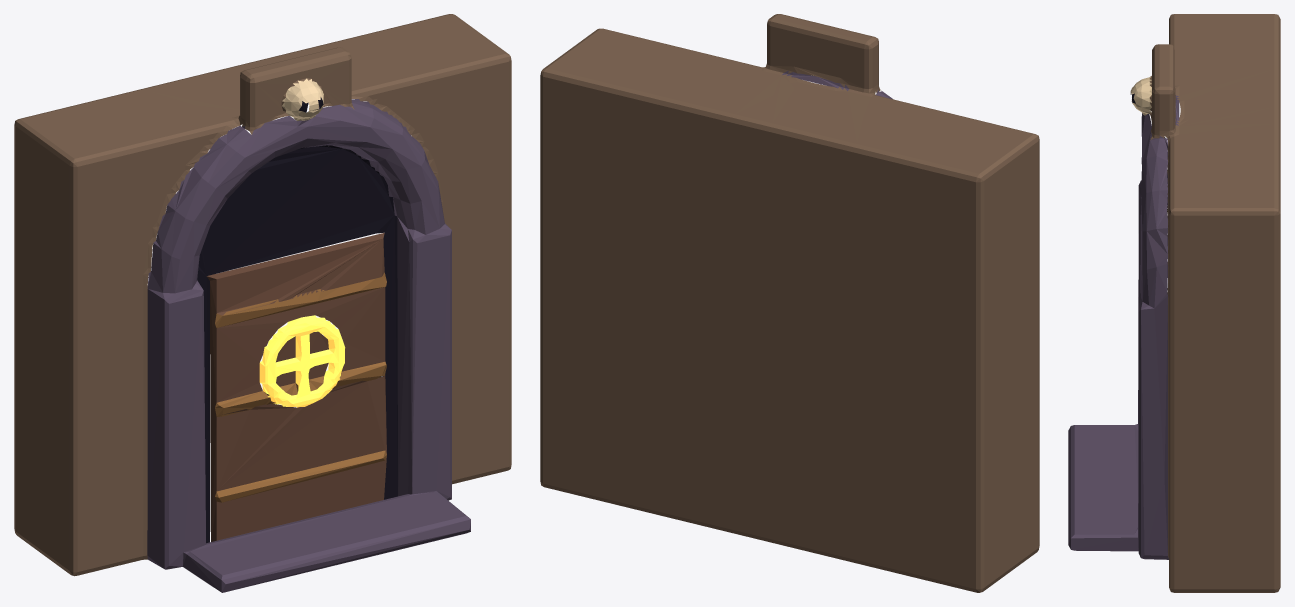
The model's file is crypt_door.glb.
3 views of the same model, side by side, from view 1: azimuth 30°, elevation 25°; view 2: azimuth 150°, elevation 25°; view 3: azimuth 270°, elevation 25° (orthographic). The views are drawn at different scales.
Parts seen in each view (by area): view 1: crypt_door; view 2: crypt_door; view 3: crypt_door.
Part boxes in pixels (left/top/right/bottom): crypt_door: left=14, top=14, right=511, bottom=592; crypt_door: left=540, top=14, right=1039, bottom=592; crypt_door: left=1068, top=14, right=1280, bottom=592.
Bounding box in the file's own units: 4.2 × 4.25 × 1.9.
